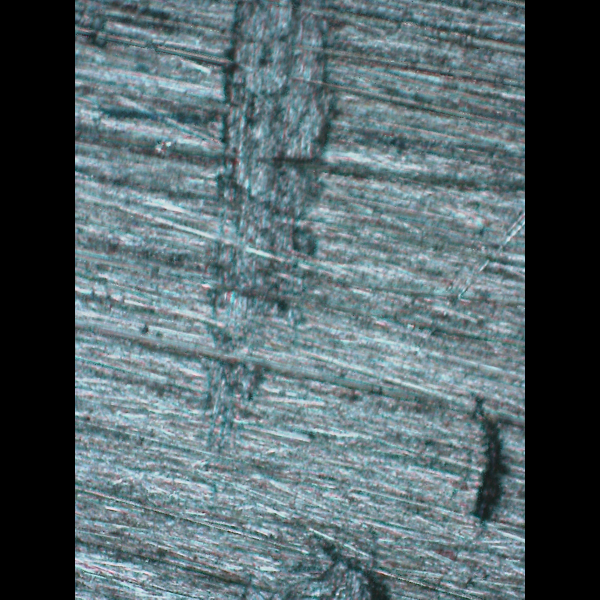d: (193, 0, 335, 448)
